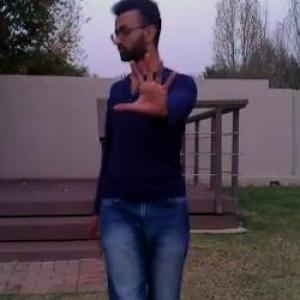follow_hand: (112, 46, 181, 118)
